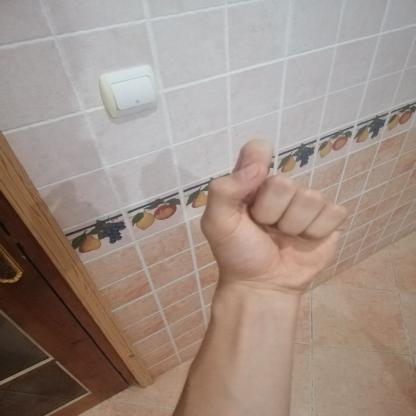FAA: (182, 128, 363, 305)
